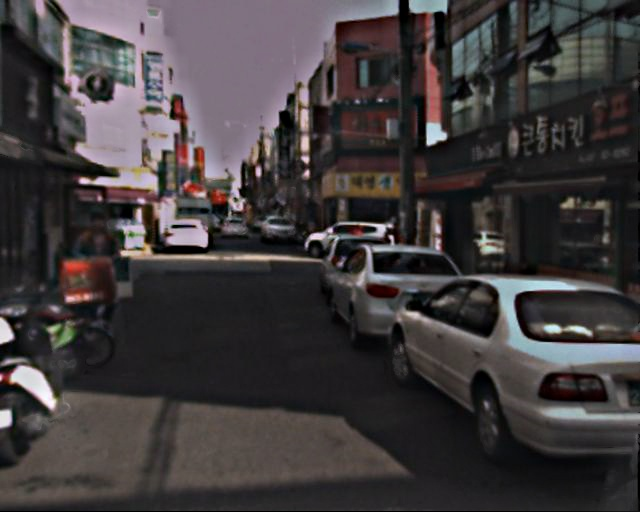person: (70, 207, 131, 341), (349, 222, 362, 254)
